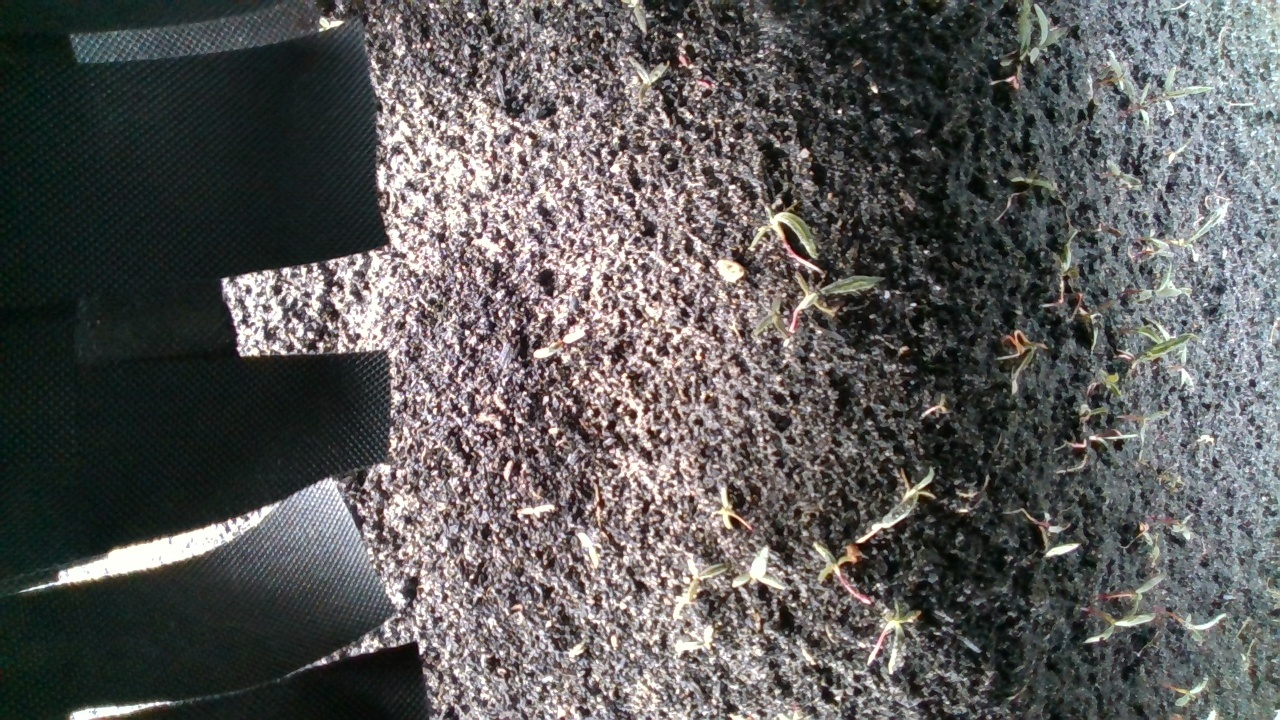weed: (1165, 604, 1220, 651)
